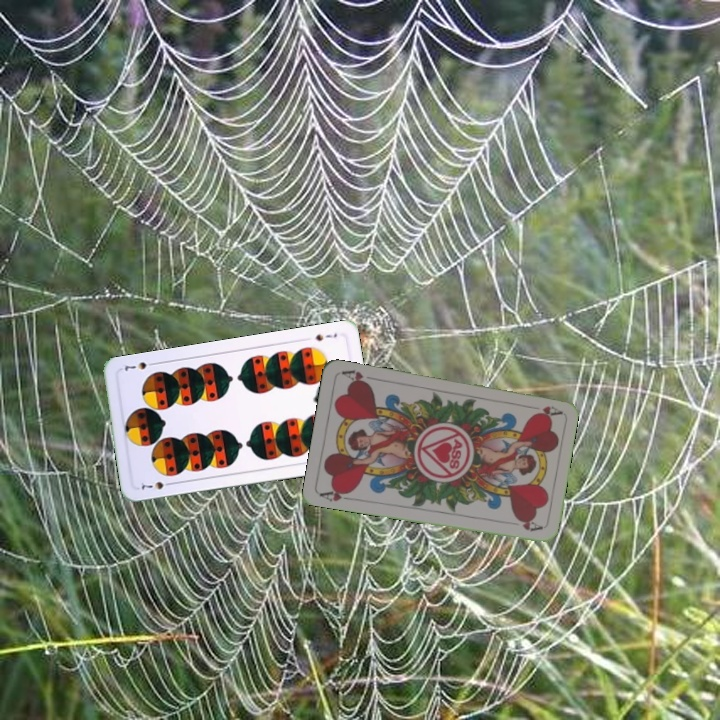HA: (317, 484, 357, 504), (522, 401, 563, 418)
S7: (137, 477, 176, 492), (312, 329, 340, 344)
